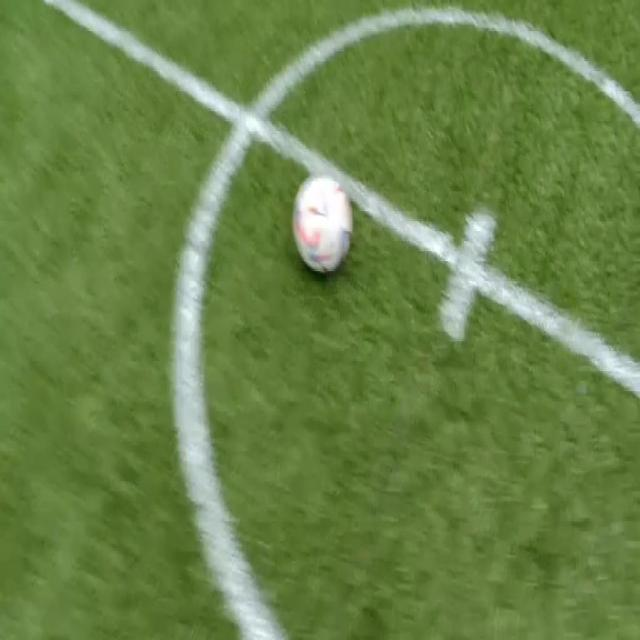ball: (292, 176, 352, 273)
